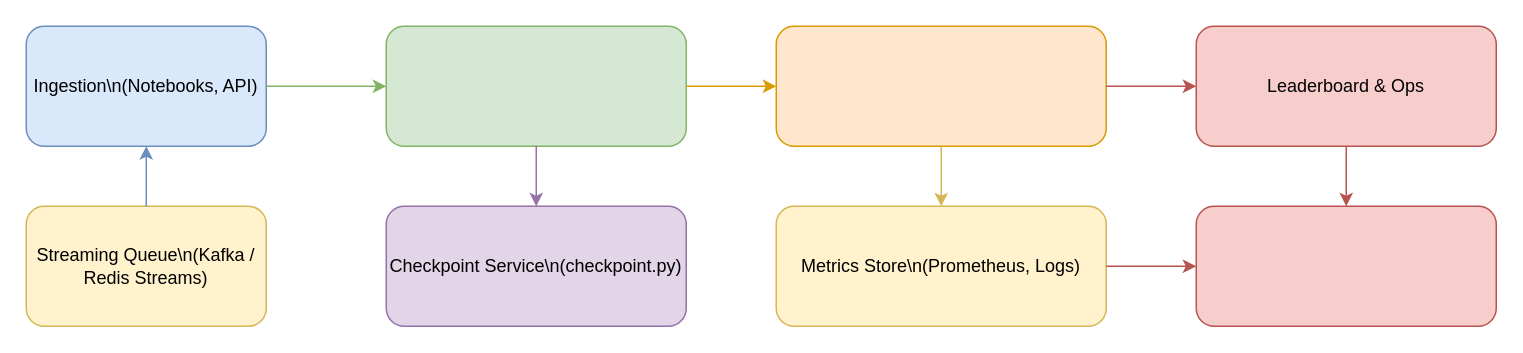
Some shapes in this 1523 by 353 pixel diagram are drawn without their labels. The centre of each missing label's shape, as x and y in pixels:
Community Portal\n(Reports, Feedback): the point at 1345,265
Evaluation\n(Encode Latency, Segmentation F1): the point at 940,85
Training\n(OnePassAIT.train_student): the point at 535,85
